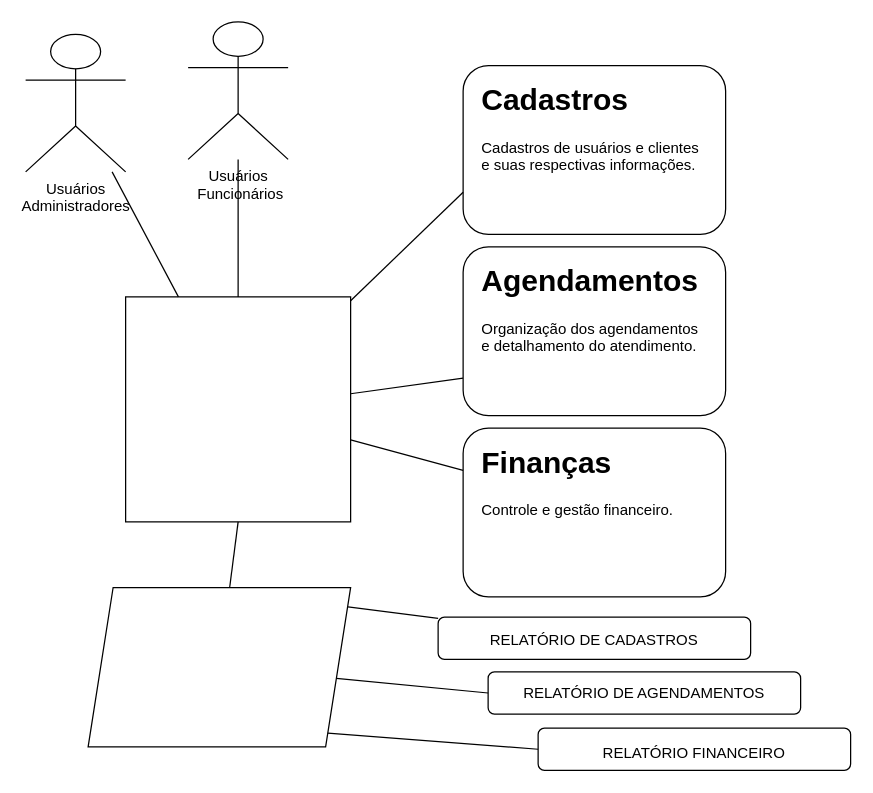
This 873x793 diagram has some shape labels left out. Each missing label, with the centre of its shape:
Relatórios Relatórios de cadastros, agendamentos e Finanças.: the point at 219,666
SISTEMA: the point at 237,409
